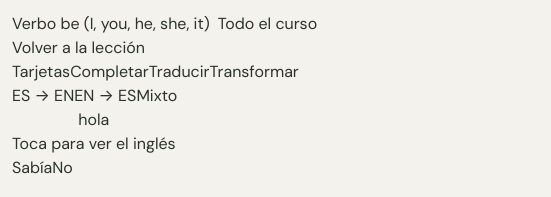
Test: StudyPracticeDesk › advances completar on a hit and shows the solution on a miss
The width and height of the screenshot is (551, 197).
Click the button "Completar".
click(109, 72)  # box [70,60,149,84]
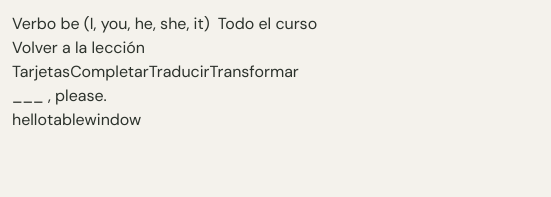
Check: the text "___ , please." is shown, box [12,85,107,106]
Click the button "table".
click(66, 120)  # box [47,108,85,132]
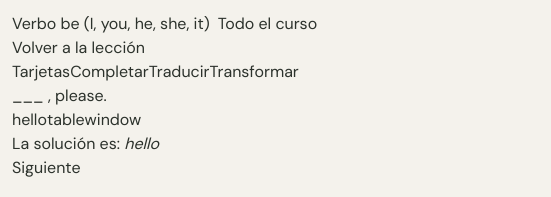
Click the button "Siguiente".
click(46, 168)  # box [12,156,80,180]
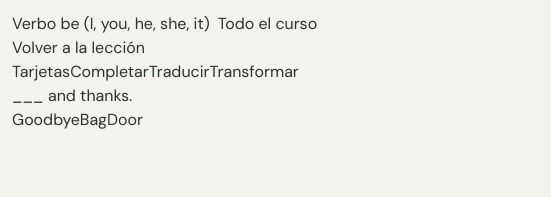
Check: the text "___ and thanks." is shown, box [12,85,132,106]
Click the button "Goodbye".
click(46, 120)  # box [12,108,80,132]
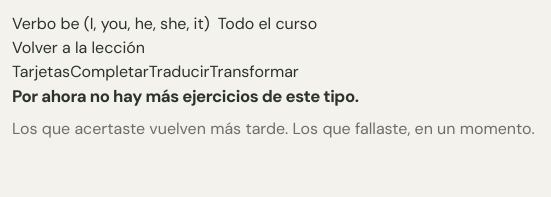
Check: the text "___ , please." is not shown
Check: the text "Por ahora no hay más ejercicios de este tipo." is shown, box [12,85,359,107]
